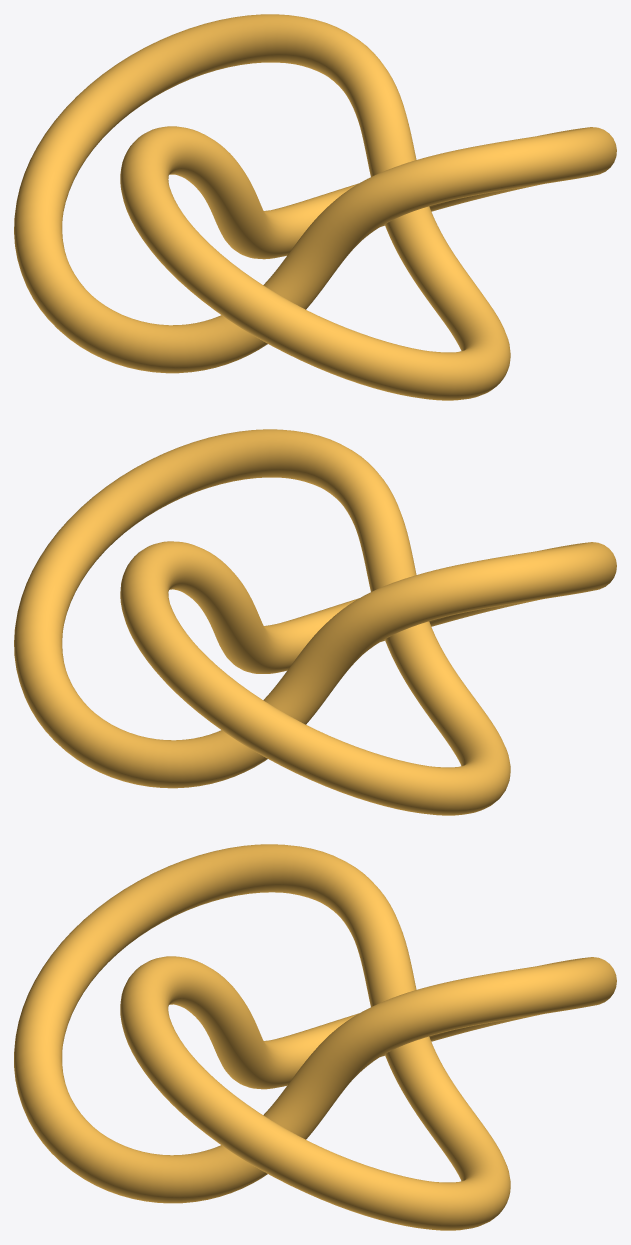
File: demo_knot.glb
The picture shows the model from 3 angles, top to bottom: view 1: azimuth 30°, elevation 25°; view 2: azimuth 150°, elevation 25°; view 3: azimuth 270°, elevation 25°; orthographic projection.
Visible parts, largest first — view 1: knot; view 2: knot; view 3: knot.
Boxes of the visible parts, left/top/right/bottom form: knot: left=14, top=14, right=616, bottom=400; knot: left=14, top=429, right=616, bottom=815; knot: left=14, top=844, right=616, bottom=1230.
Size of the model in its own units: 7.61 by 3.24 by 7.99.
